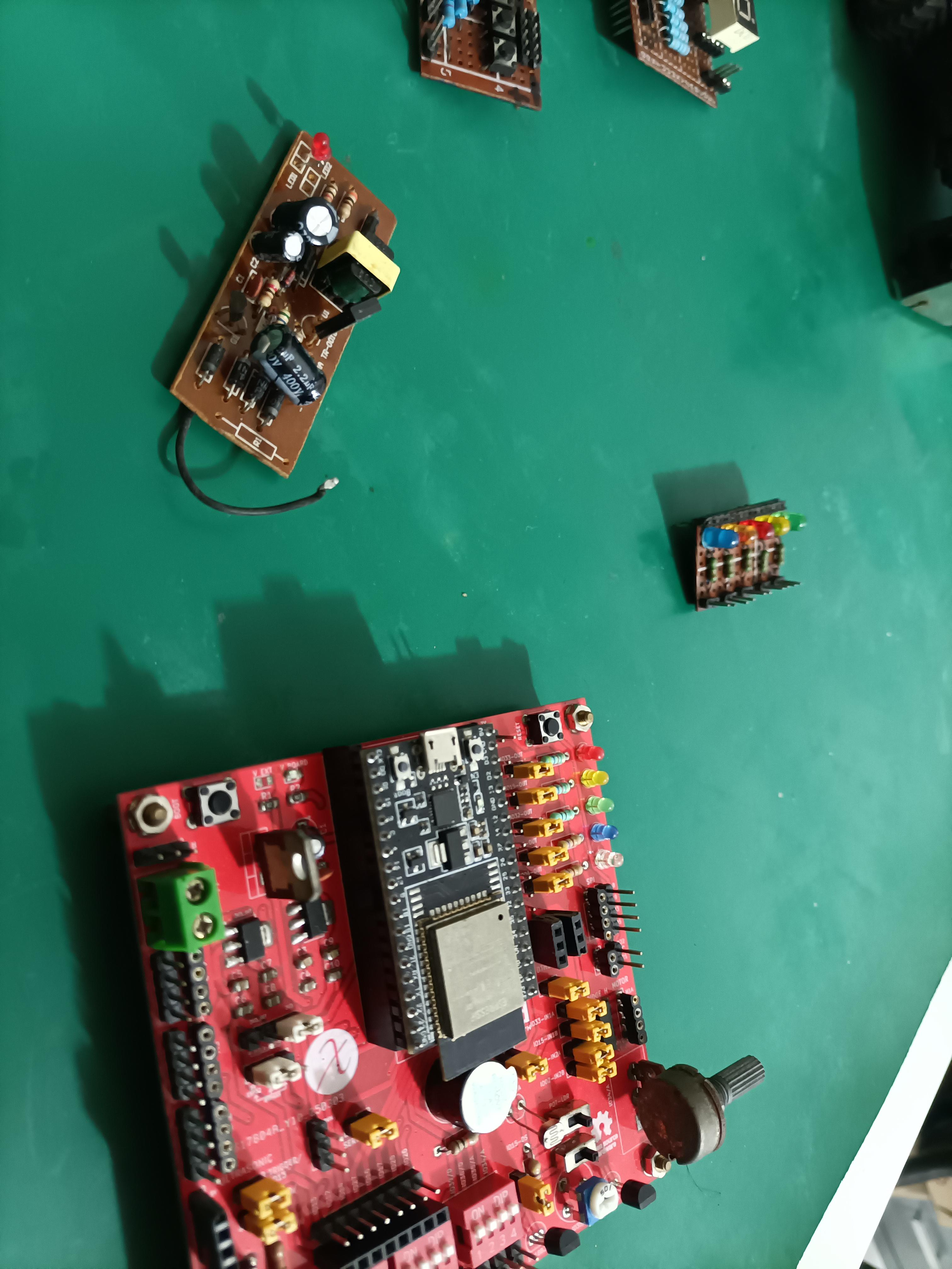LED: (696, 511, 738, 550), (310, 126, 342, 165), (590, 844, 626, 875), (732, 510, 761, 548), (752, 509, 776, 553), (583, 793, 621, 817), (587, 822, 624, 843), (576, 765, 611, 787), (574, 741, 607, 763), (788, 504, 808, 535), (772, 506, 788, 544)
Resistencia: (662, 0, 696, 59), (448, 0, 483, 34), (338, 175, 358, 225), (436, 1143, 485, 1160), (264, 267, 279, 315), (524, 1153, 545, 1186), (556, 859, 587, 881), (535, 751, 573, 766), (705, 553, 720, 589), (547, 782, 571, 799), (548, 807, 575, 822), (558, 834, 581, 851), (723, 554, 736, 584), (759, 546, 768, 577), (742, 549, 751, 579)
